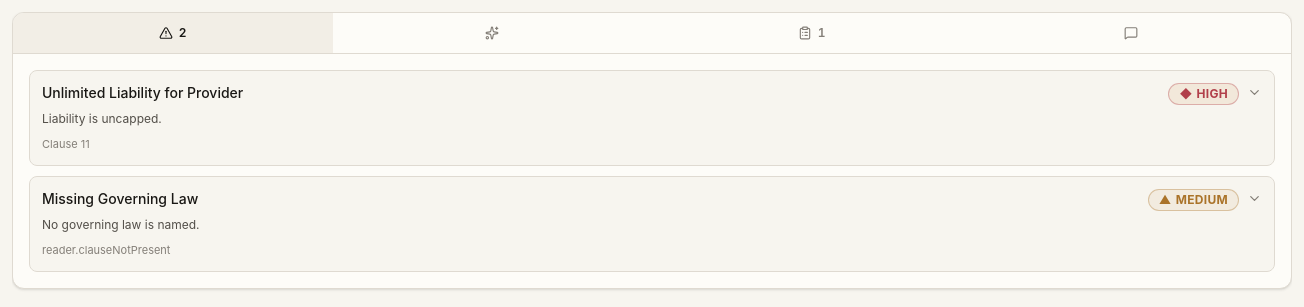
AnalysisRail › shows obligations on their own tab
This screenshot has width=1304, height=307.
Click the tab named "reader.tabs.obligations". click: x=812, y=33
box: [652, 13, 972, 53]
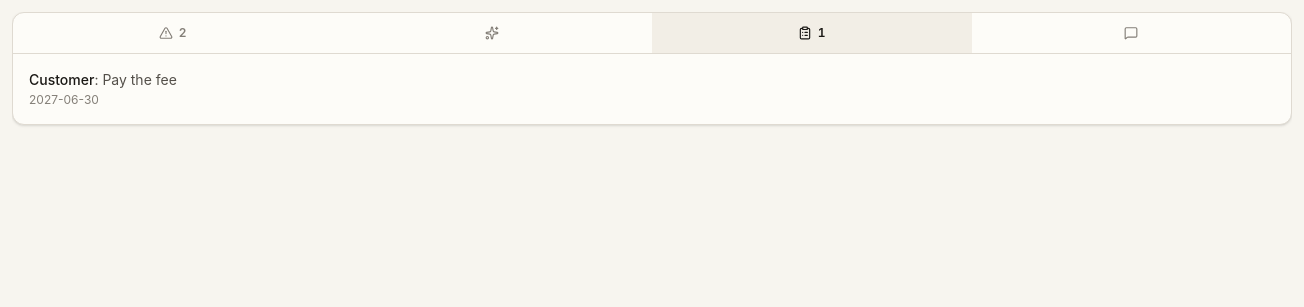
Expected: the text "Customer" is shown, [29, 71, 94, 88]
Expected: the list item "Pay the fee" is shown, [102, 71, 177, 88]
Expected: the text "2027-06-30" is shown, [29, 92, 99, 107]
